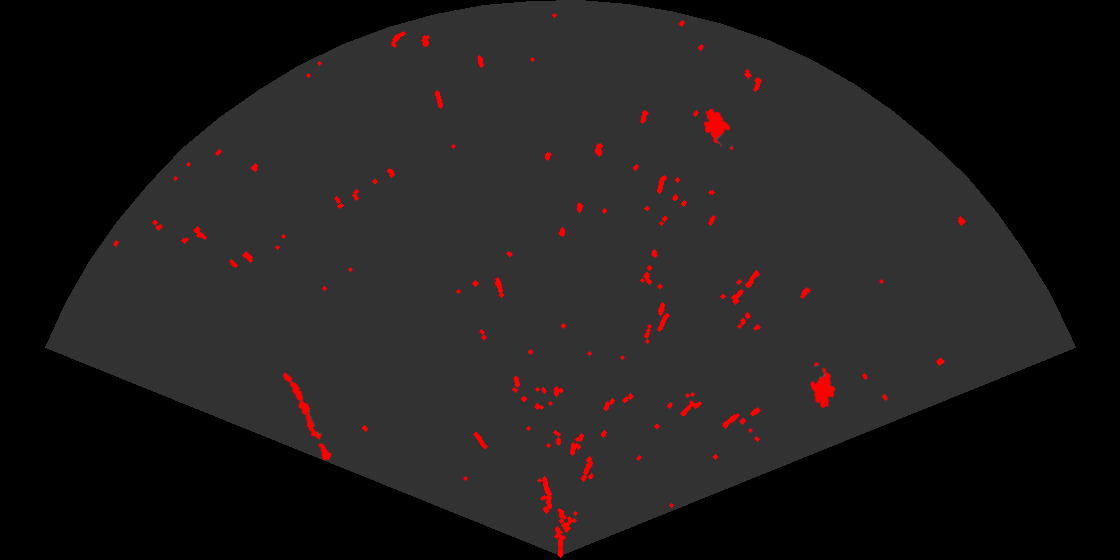AUV: (702, 107, 735, 152), (809, 361, 837, 410)
chain: (281, 371, 333, 463)
